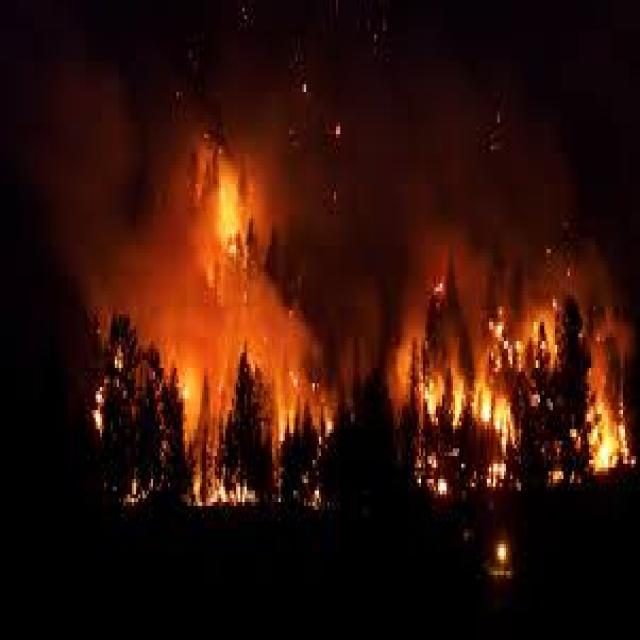Fire: (380, 282, 636, 486), (94, 306, 270, 528), (174, 95, 268, 255), (279, 352, 346, 443)
